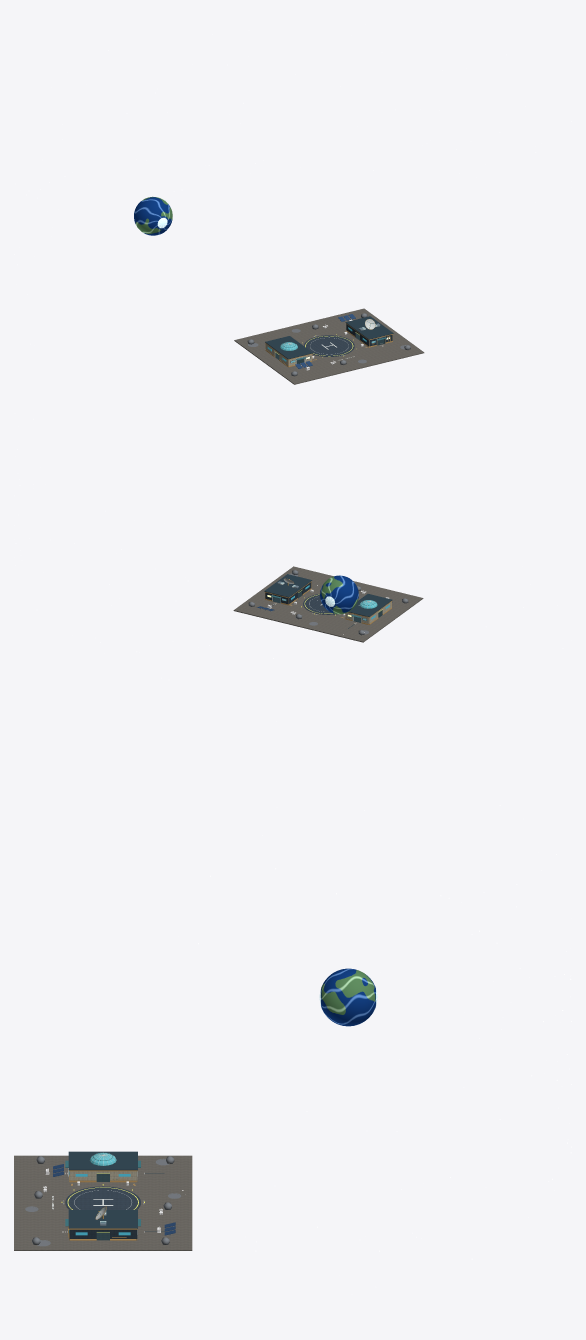
File: moon-high.glb
The picture shows the model from 3 angles, top to bottom: view 1: azimuth 30°, elevation 25°; view 2: azimuth 150°, elevation 25°; view 3: azimuth 270°, elevation 25°; orthographic projection. The views are drawn at different scales.
Parts seen in each view (by area): view 1: moon playable ground.006, Art distant Earth.005, Batched 7.005, landing pad.006; view 2: moon playable ground.006, Art distant Earth.005, Batched 7.005, landing pad.006; view 3: moon playable ground.006, Art distant Earth.005, Batched 7.005, landing pad.006.
Part boxes in pixels (box(x1,y1,x2,y2)): moon playable ground.006: box(234, 308, 424, 384); Art distant Earth.005: box(134, 196, 172, 235); Batched 7.005: box(265, 316, 393, 359); landing pad.006: box(304, 335, 354, 356); moon playable ground.006: box(233, 566, 423, 642); Art distant Earth.005: box(320, 575, 358, 614); Batched 7.005: box(264, 574, 392, 617); landing pad.006: box(303, 594, 336, 614); moon playable ground.006: box(14, 1155, 192, 1250); Art distant Earth.005: box(319, 968, 377, 1026); Batched 7.005: box(68, 1151, 137, 1228); landing pad.006: box(65, 1186, 140, 1209).
Size of the model in its own units: 415 by 149 by 250.
Materials: 27 (6 with a texture image).
